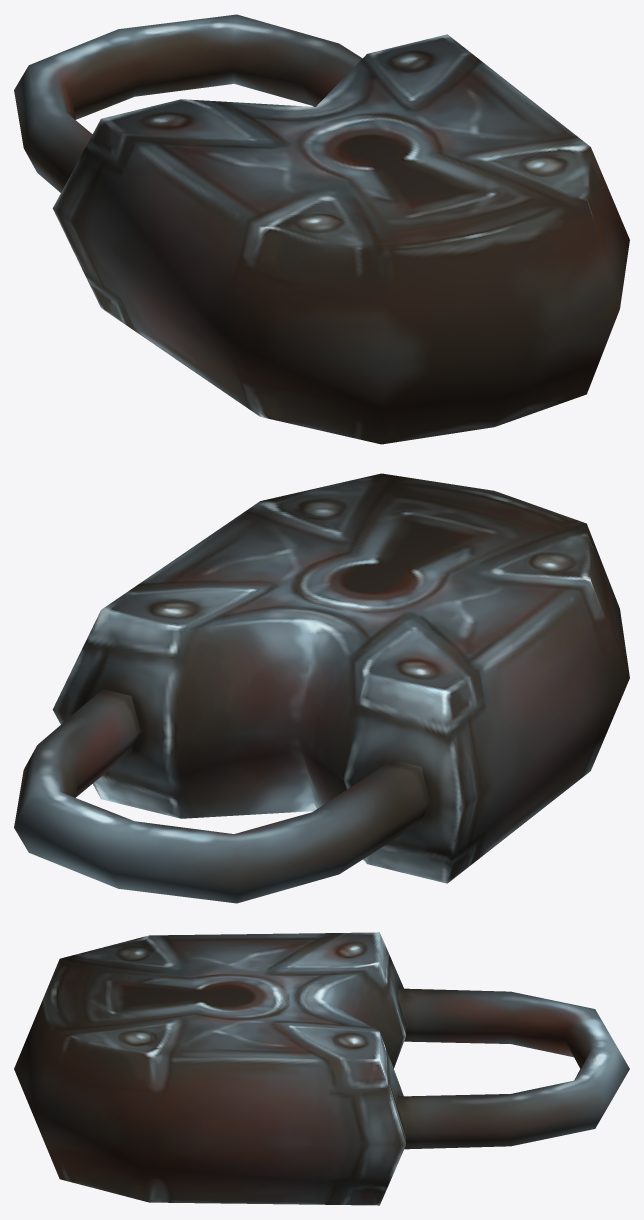
The model's file is padlock1.fbx.
3 renders of one model, top to bottom at view 1: azimuth 30°, elevation 25°; view 2: azimuth 150°, elevation 25°; view 3: azimuth 270°, elevation 25°, orthographic. The views are drawn at different scales.
Visible parts, largest first — view 1: padlock1; view 2: padlock1; view 3: padlock1.
Boxes of the visible parts, <box> form: padlock1: <box>14,14,629,444</box>; padlock1: <box>14,473,629,903</box>; padlock1: <box>14,932,629,1205</box>.
Size of the model in its own units: 20.64 by 9.13 by 35.35.
